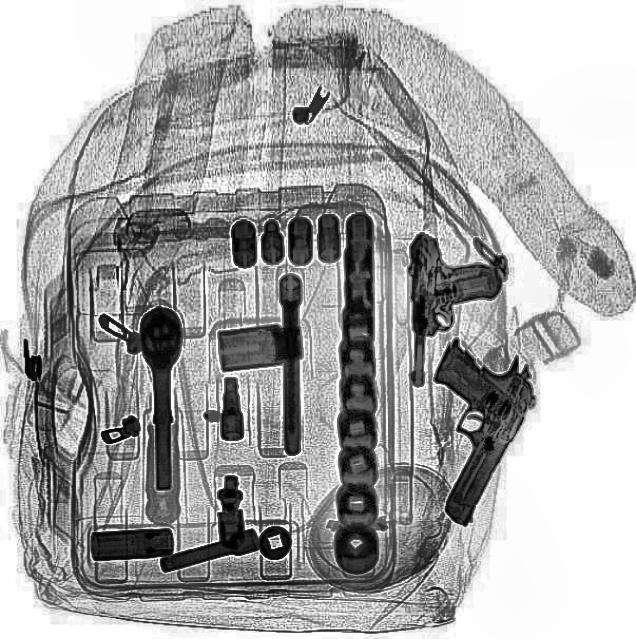Gun: (373, 328, 550, 528), (404, 230, 504, 388)
